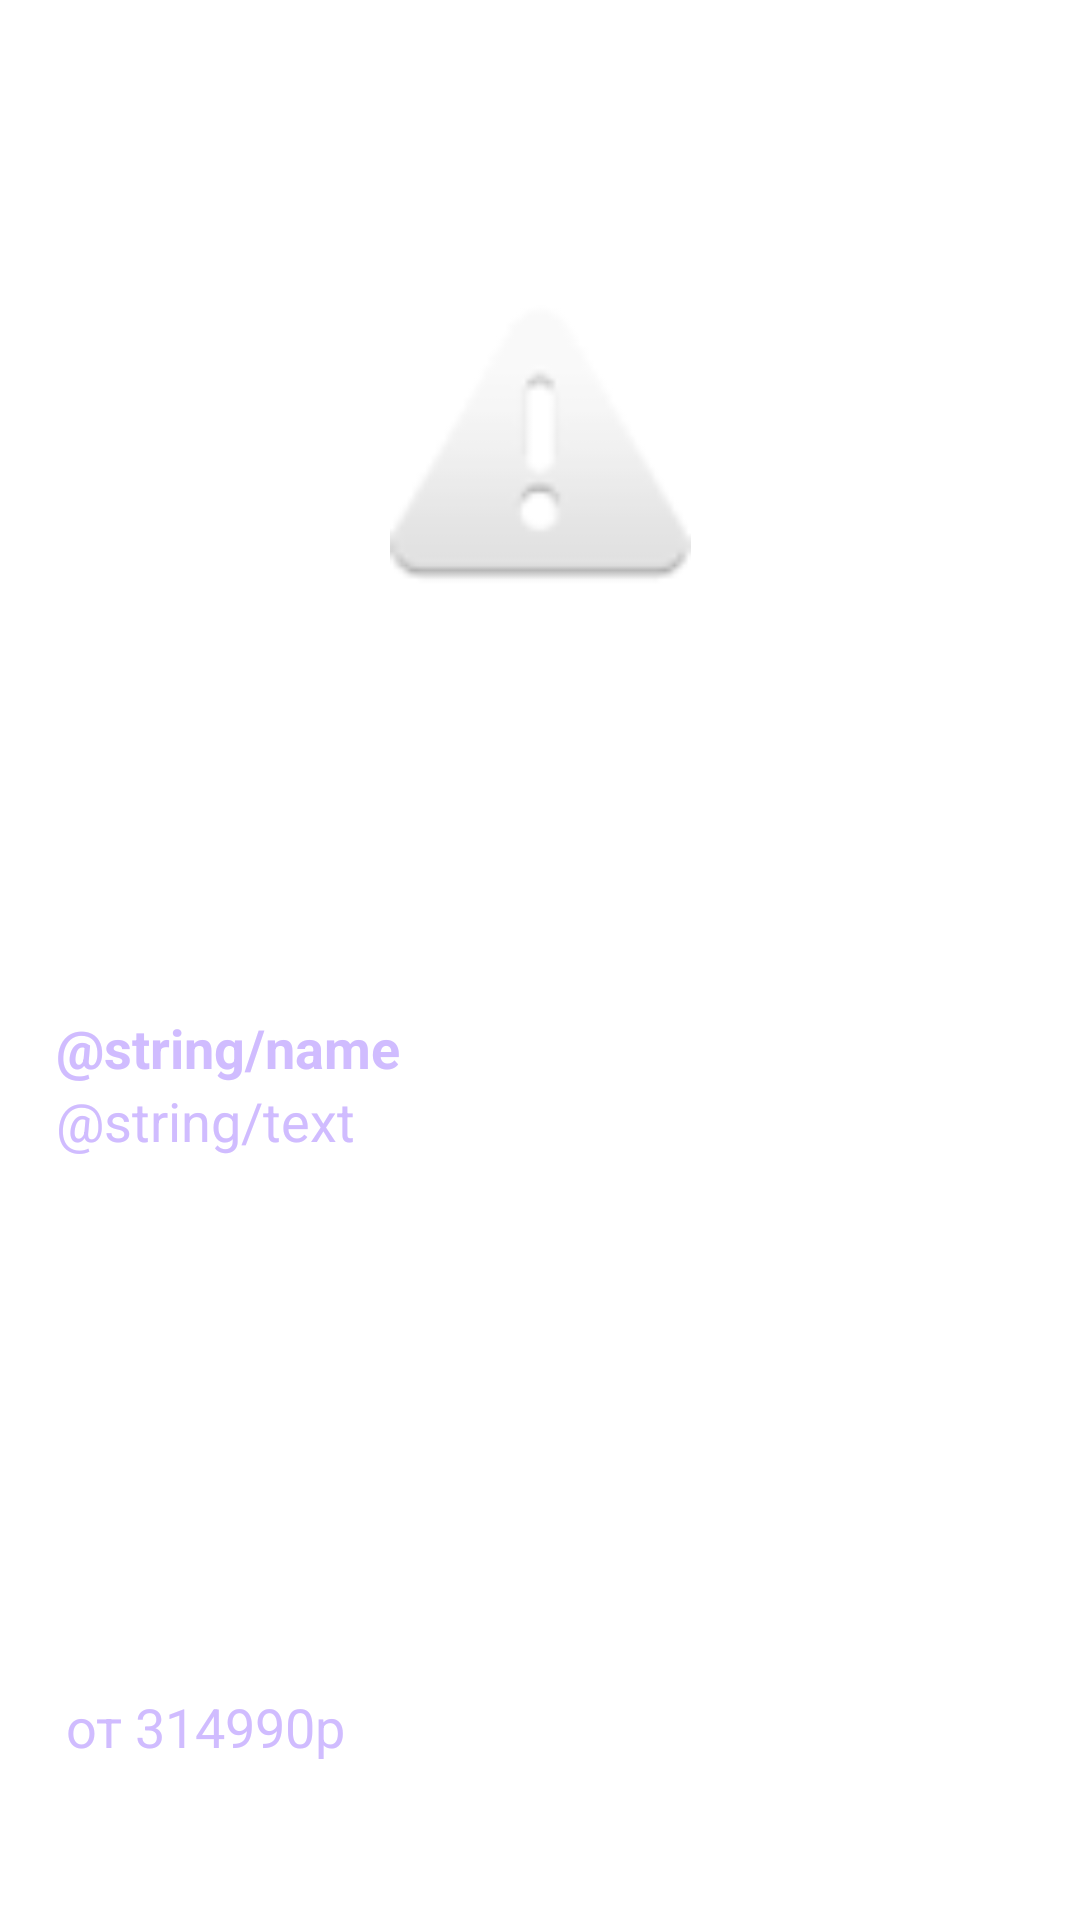

Icons on this 1080×1920 Android screen, each with its box as box(x1, y1, x2, y2):
alert: box(390, 374, 691, 577)
